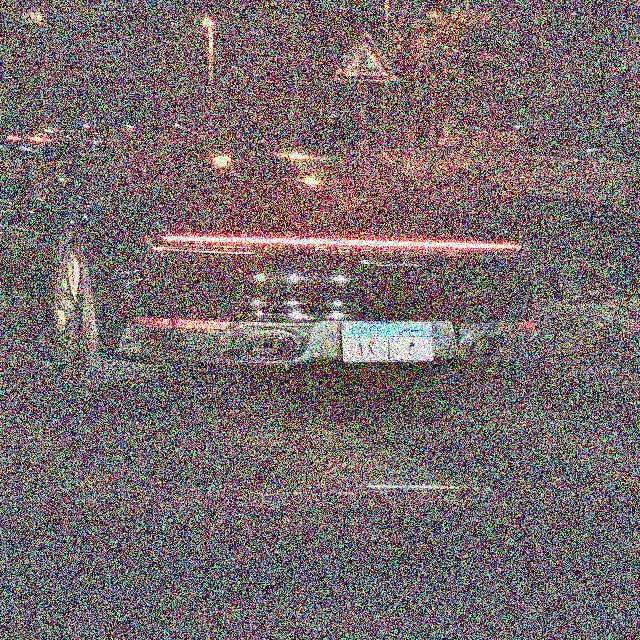License Plate: (341, 321, 435, 361)
